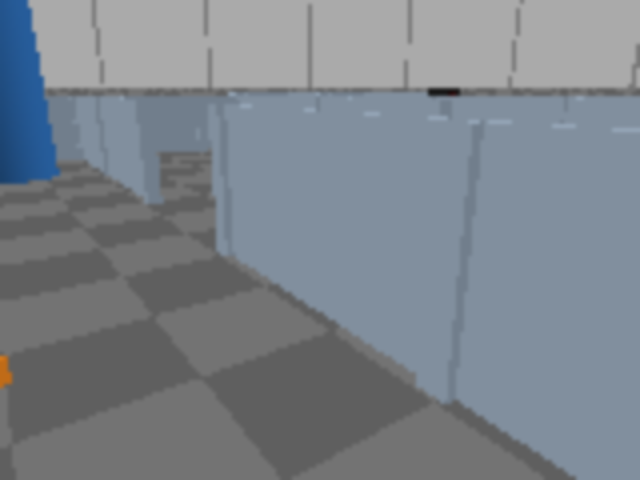person: (0, 0, 59, 183)
puck: (0, 356, 12, 398)
